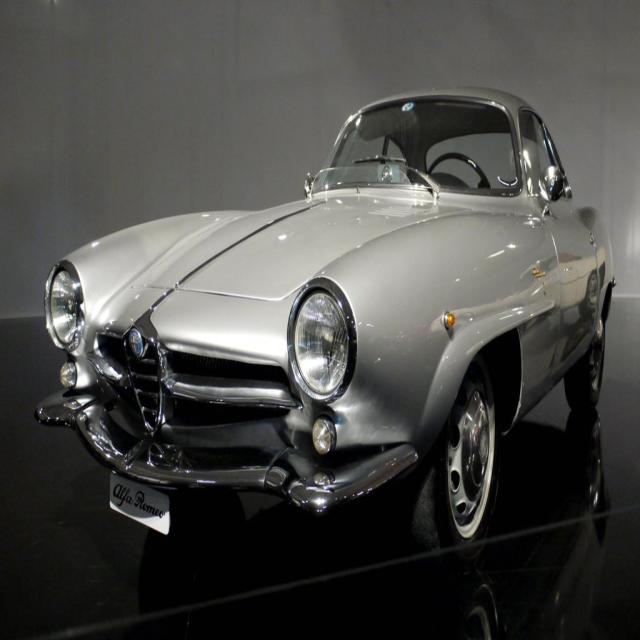car: (27, 86, 628, 571)
